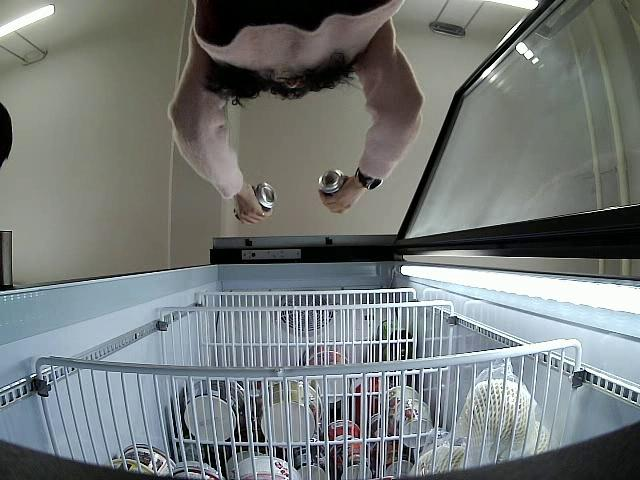00_hand: (231, 180, 274, 224), (318, 176, 366, 215)
14_welchsGrape: (315, 168, 348, 199), (254, 179, 279, 209)
